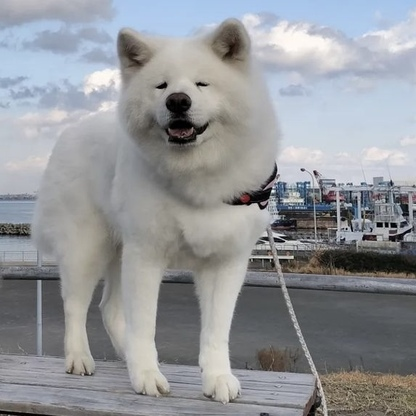akita: (27, 14, 286, 407)
